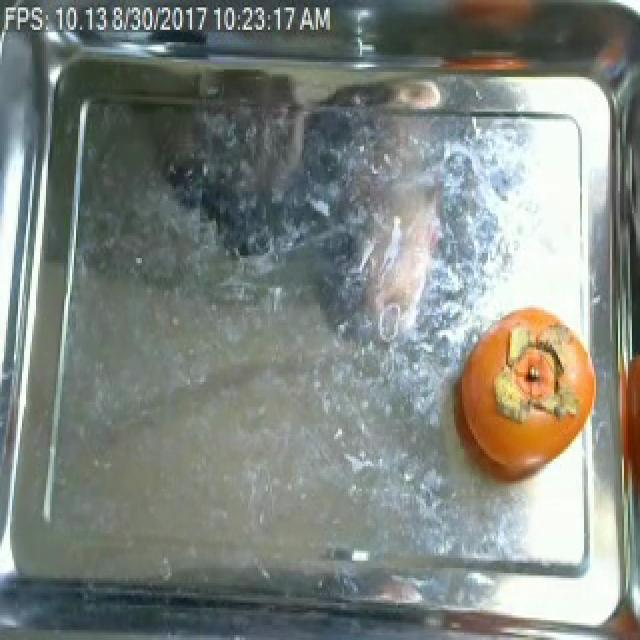Fruit: (450, 337, 568, 484)
